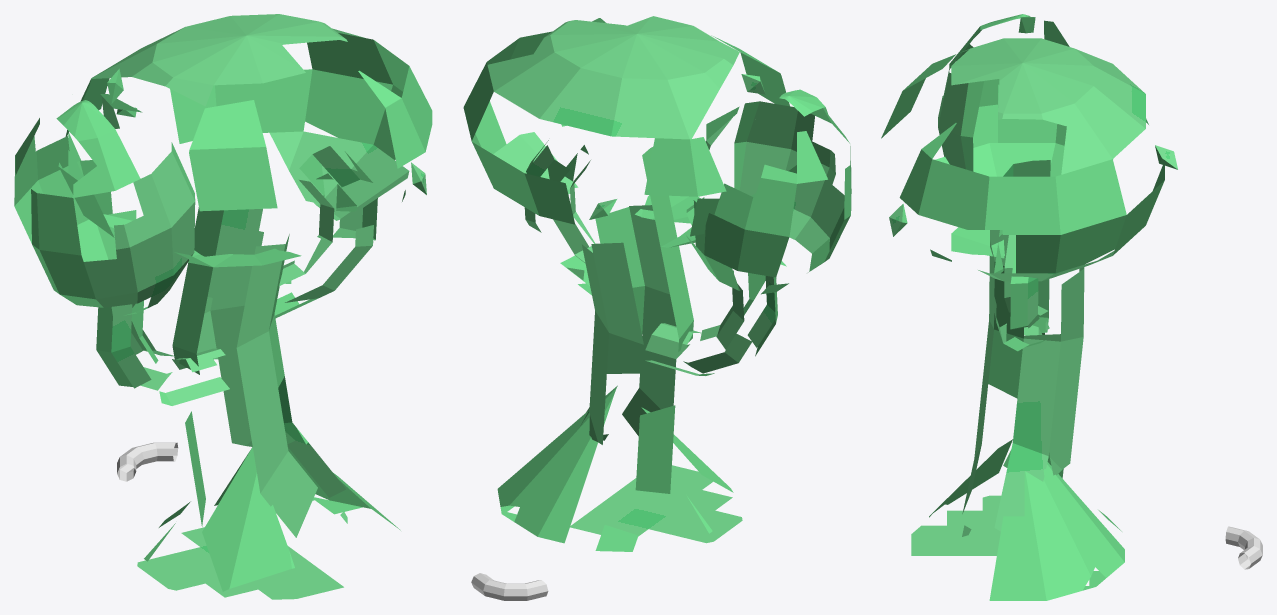
File: Big tree.dae
The picture shows the model from 3 angles, left to right: view 1: azimuth 30°, elevation 25°; view 2: azimuth 150°, elevation 25°; view 3: azimuth 270°, elevation 25°; orthographic projection. The views are drawn at different scales.
Visible parts, largest first — view 1: sphere (×2), torus (×4), cone; view 2: sphere (×2), torus (×4), cone; view 3: sphere (×2), torus (×3), cone.
Part boxes in pixels (left/top/right/bottom): sphere (×2): left=14, top=14, right=432, bottom=315; torus (×4): left=96, top=146, right=377, bottom=537; cone: left=137, top=432, right=400, bottom=599; sphere (×2): left=463, top=16, right=851, bottom=294; torus (×4): left=471, top=140, right=777, bottom=600; cone: left=497, top=385, right=742, bottom=551; sphere (×2): left=881, top=14, right=1164, bottom=281; torus (×3): left=962, top=160, right=1262, bottom=569; cone: left=911, top=439, right=1124, bottom=600.
Size of the model in its own units: 5.79 by 7.5 by 5.38.
